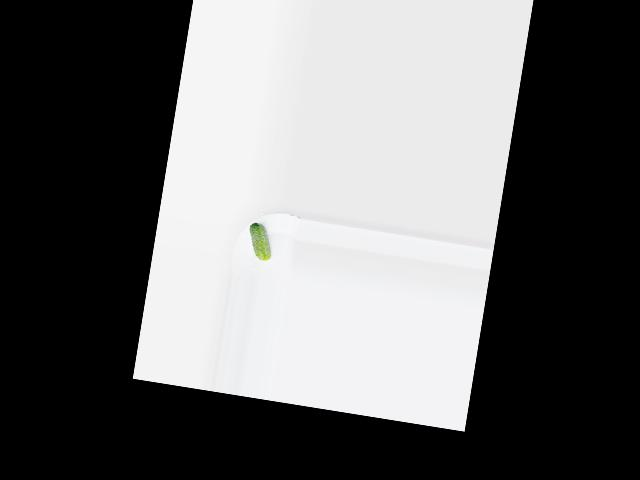cucumber: (245, 222, 276, 261)
